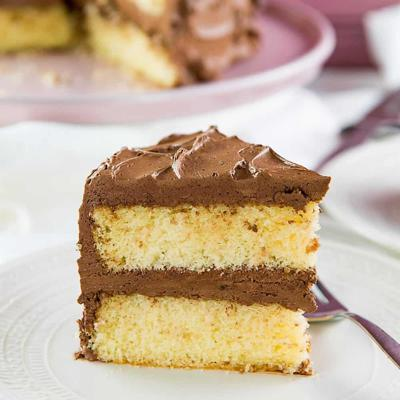cake: (75, 126, 322, 381)
